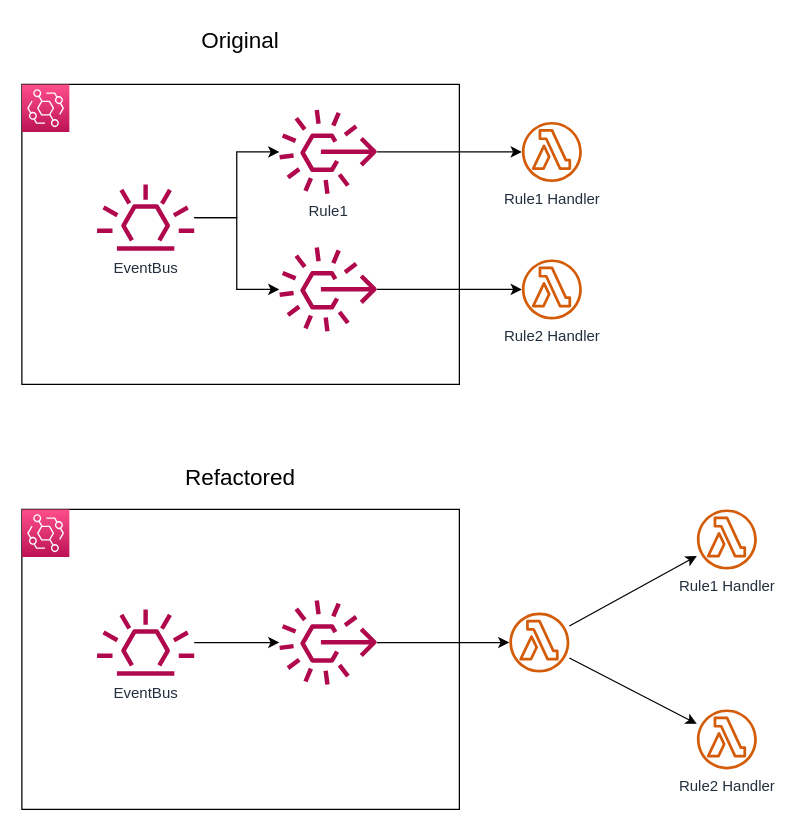
This 796x831 diagram has some shape labels left out. The shapes that lost their labels are listed below. From the top down, each one's centre as x and y in pixels, then its label:
At [327,288]: "Rule2".
At [327,641]: "Rule(no logic)".
At [539,642]: "Filter Function (logic)".
